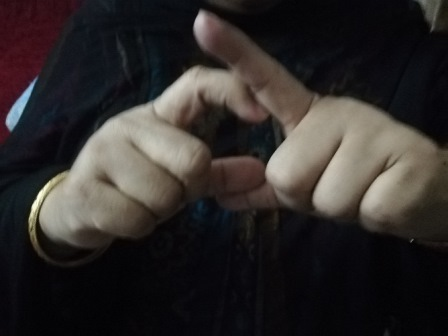kh: (112, 12, 393, 229)
